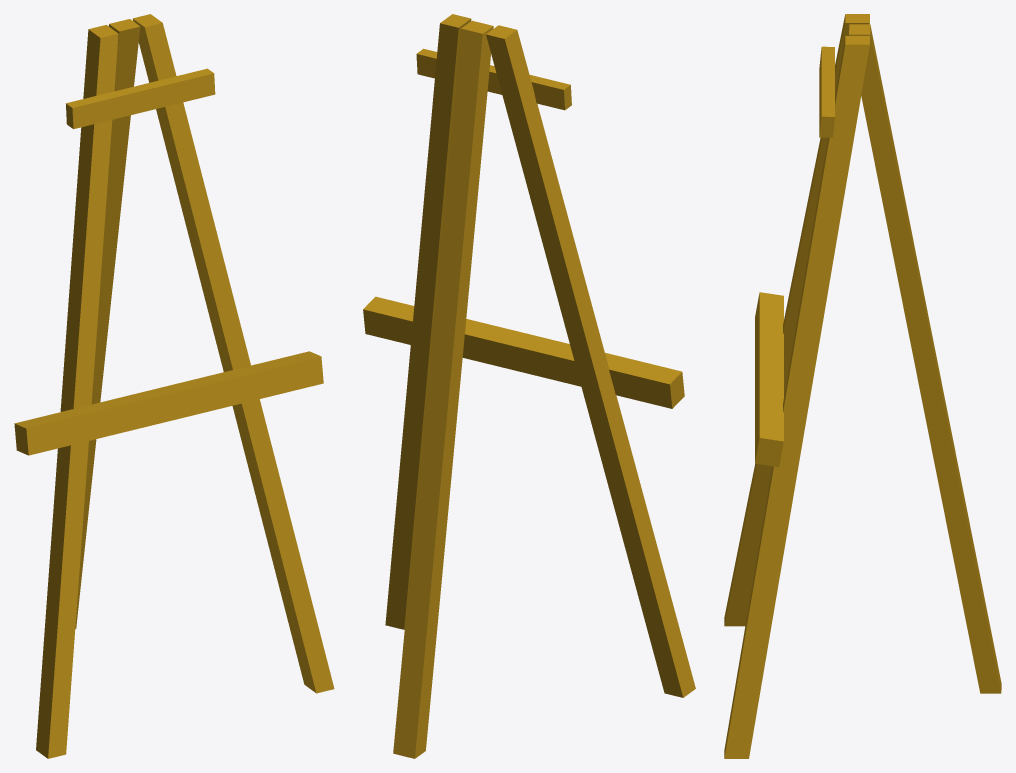
Rendered from easel gold.glb.
3 views of the same model, side by side, from view 1: azimuth 30°, elevation 25°; view 2: azimuth 150°, elevation 25°; view 3: azimuth 270°, elevation 25° (orthographic). The views are drawn at different scales.
Visible parts, largest first — view 1: tripod eisel gold; view 2: tripod eisel gold; view 3: tripod eisel gold.
Boxes of the visible parts, x1,y1,x2,y2 form: tripod eisel gold: (14, 14, 334, 758); tripod eisel gold: (363, 14, 695, 758); tripod eisel gold: (724, 14, 1001, 758).
Size of the model in its own units: 0.9503 by 2 by 0.7627.
